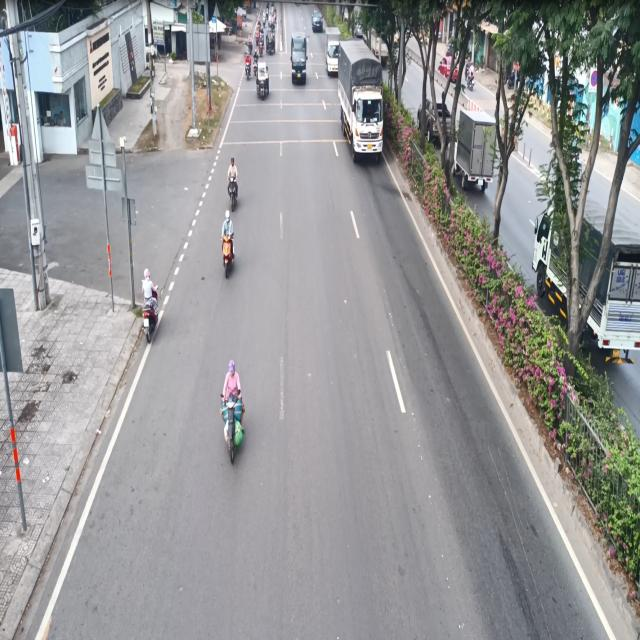motor: (221, 354, 242, 468), (139, 268, 166, 338), (221, 205, 236, 277), (226, 150, 242, 215)
truck: (336, 41, 385, 162), (288, 34, 310, 89), (324, 24, 342, 71)
